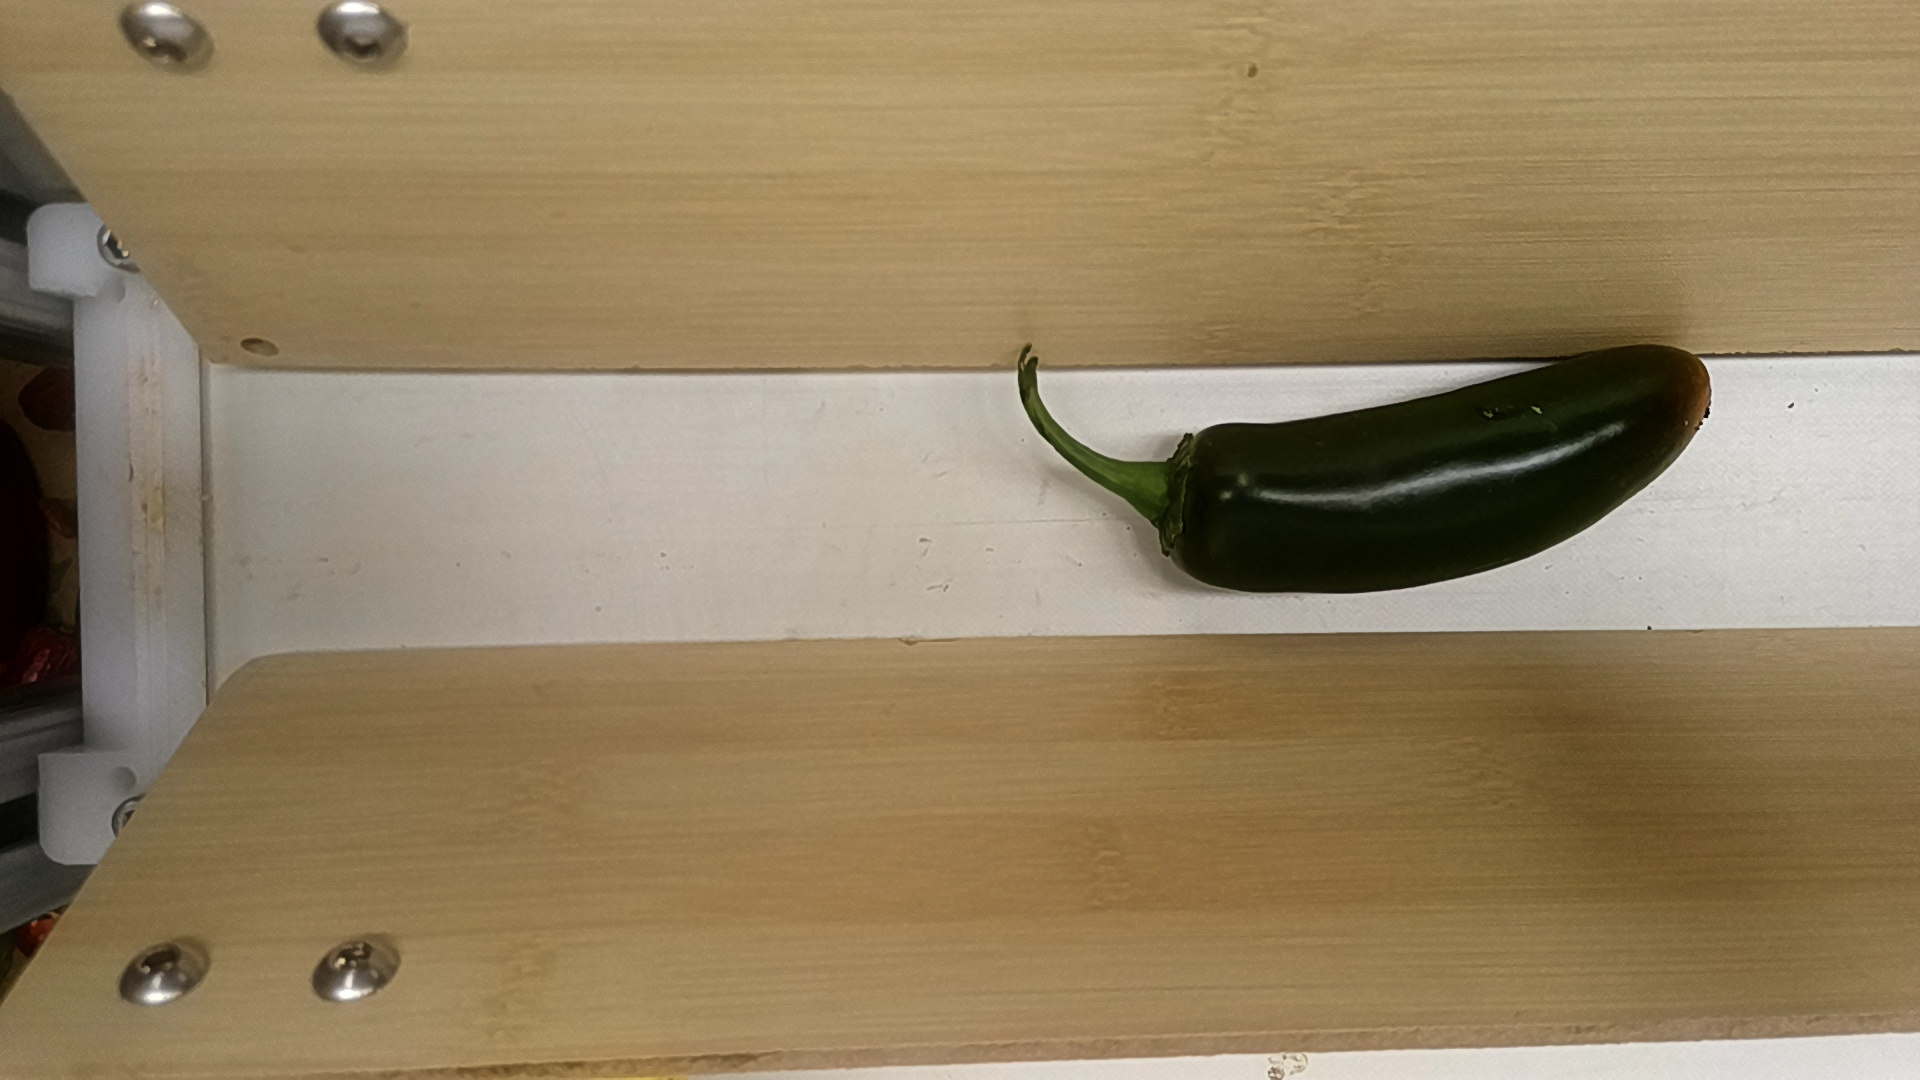Cut Point: (1153, 418, 1222, 593)
